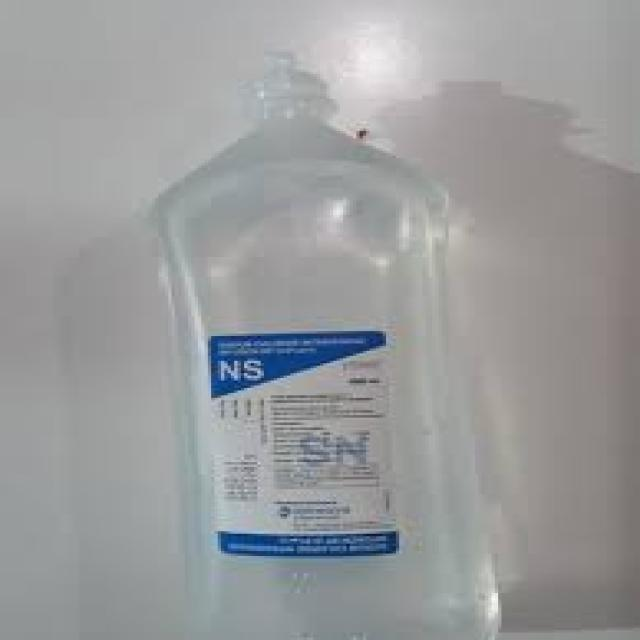B3: (128, 37, 528, 640)
